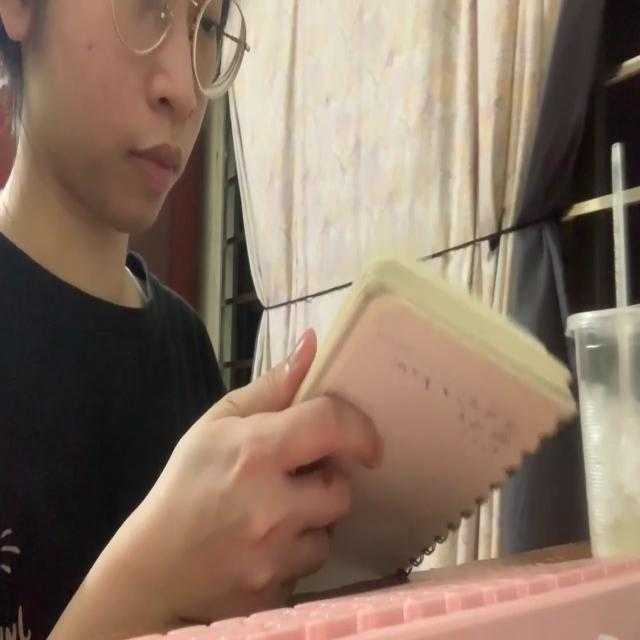book: (289, 245, 574, 580)
student: (0, 0, 383, 640)
